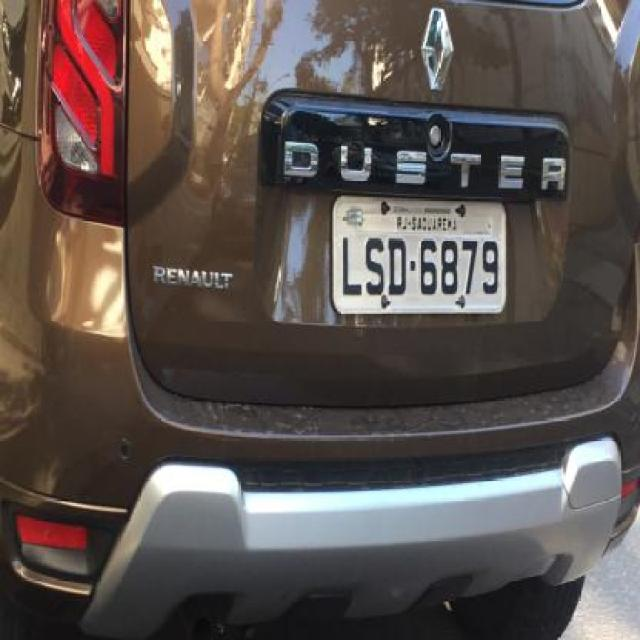old_plate: (324, 191, 513, 323)
